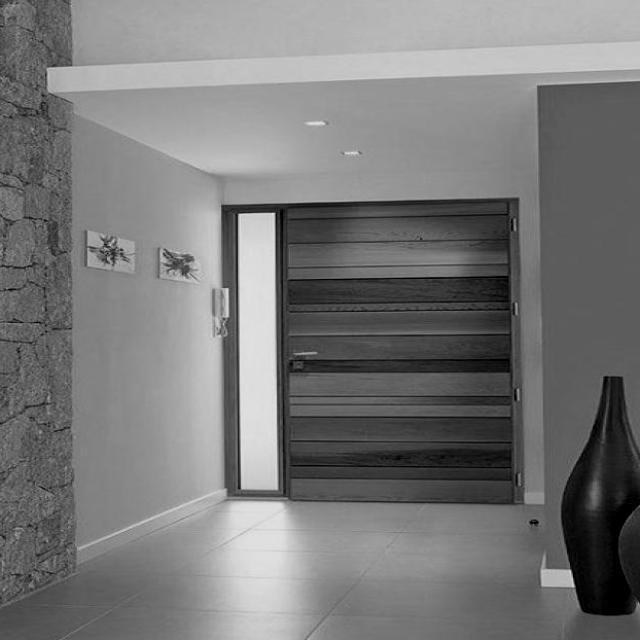door: (277, 198, 524, 504)
